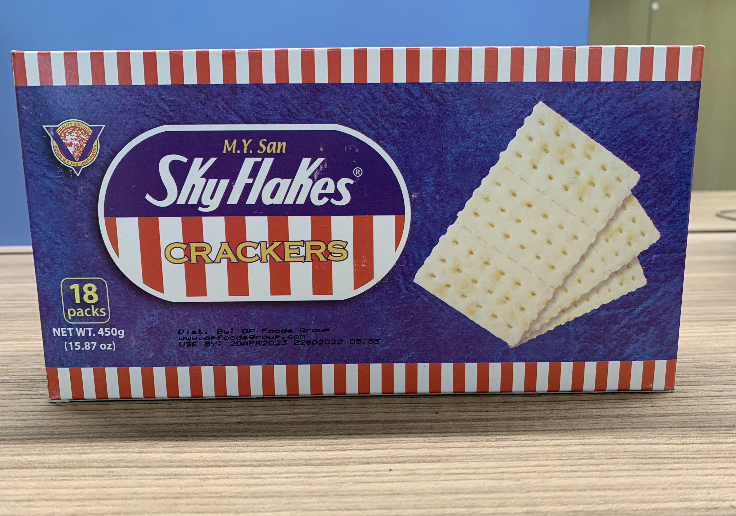crackers_450g: (49, 93, 660, 359)
